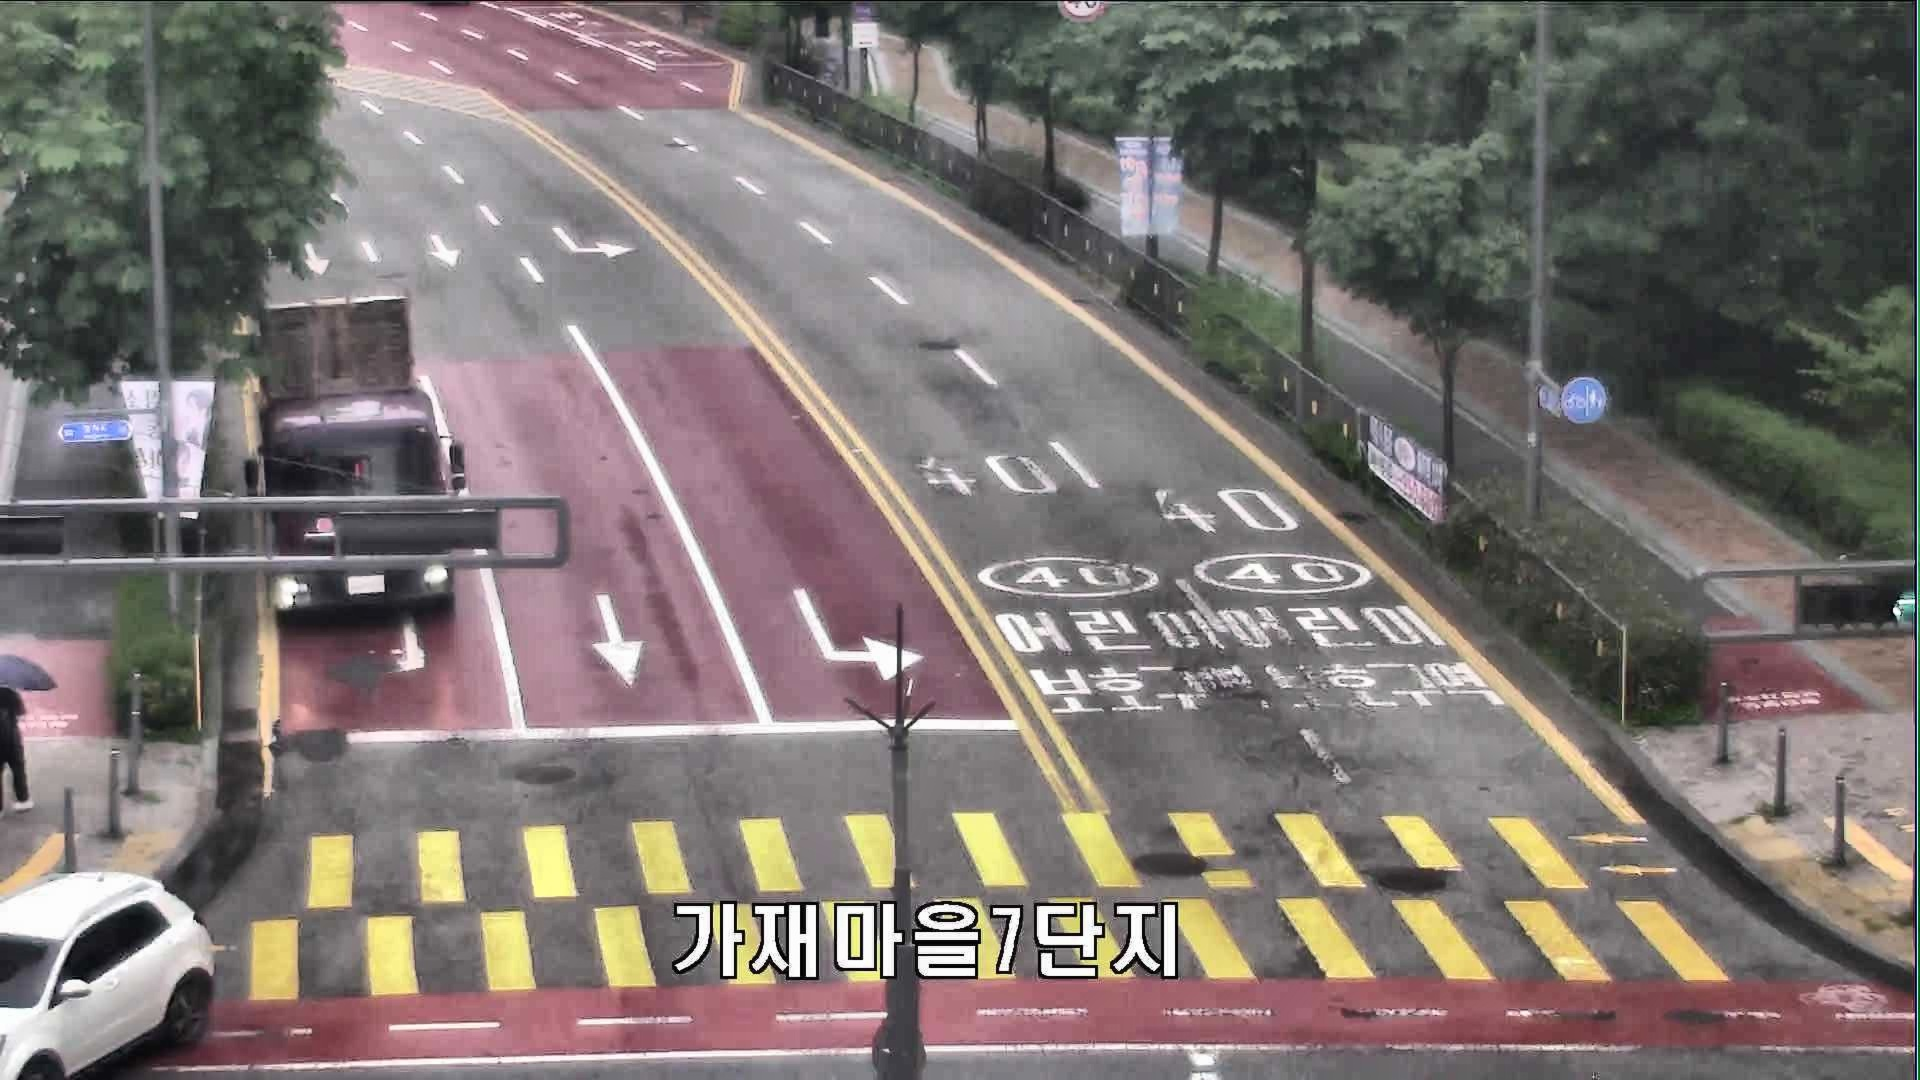um_sidewalk: (1, 655, 57, 810)
